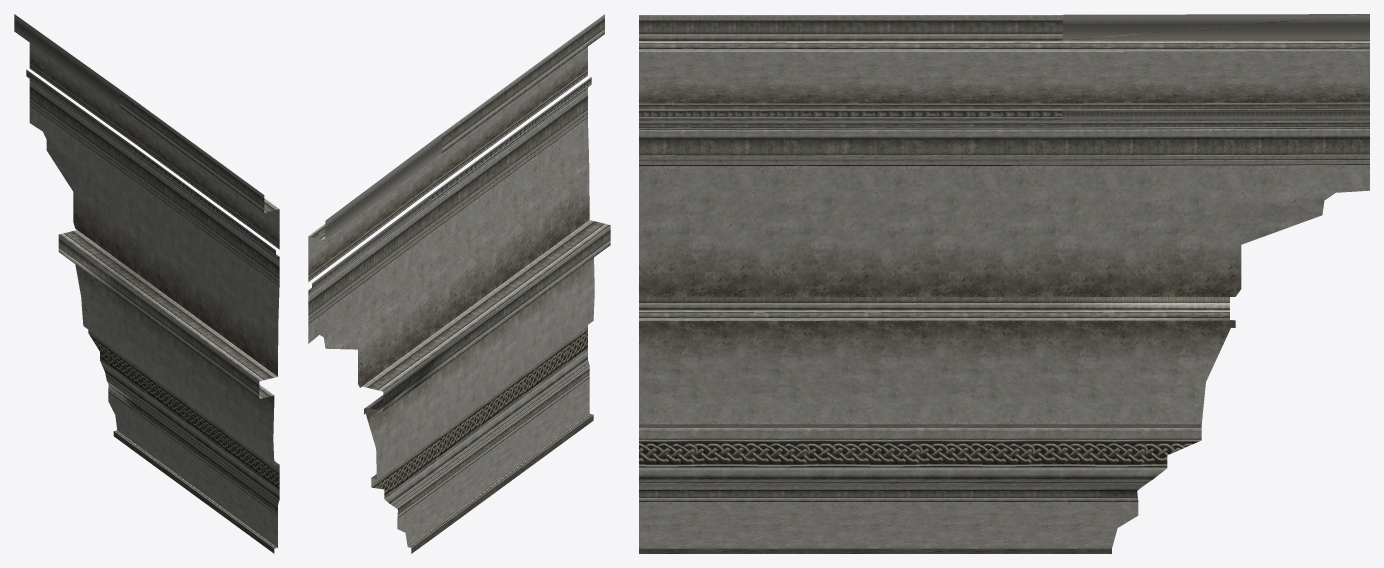
Rendered from DWARF_PALACE_MAINHALL_ENTRENCE02.fbx.
3 views of the same model, side by side, from view 1: azimuth 30°, elevation 25°; view 2: azimuth 150°, elevation 25°; view 3: azimuth 270°, elevation 25° (orthographic). The views are drawn at different scales.
Parts seen in each view (by area): view 1: DWARF_PALACE_MAINHALL_ENTRENCE02; view 2: DWARF_PALACE_MAINHALL_ENTRENCE02; view 3: DWARF_PALACE_MAINHALL_ENTRENCE02.
Part boxes in pixels (x1=…): DWARF_PALACE_MAINHALL_ENTRENCE02: x1=14, y1=14, x2=279, y2=553; DWARF_PALACE_MAINHALL_ENTRENCE02: x1=308, y1=14, x2=610, y2=553; DWARF_PALACE_MAINHALL_ENTRENCE02: x1=639, y1=14, x2=1369, y2=553.
Size of the model in its own units: 12047 by 205000 by 255360.
Materials: 8 (8 with a texture image).
